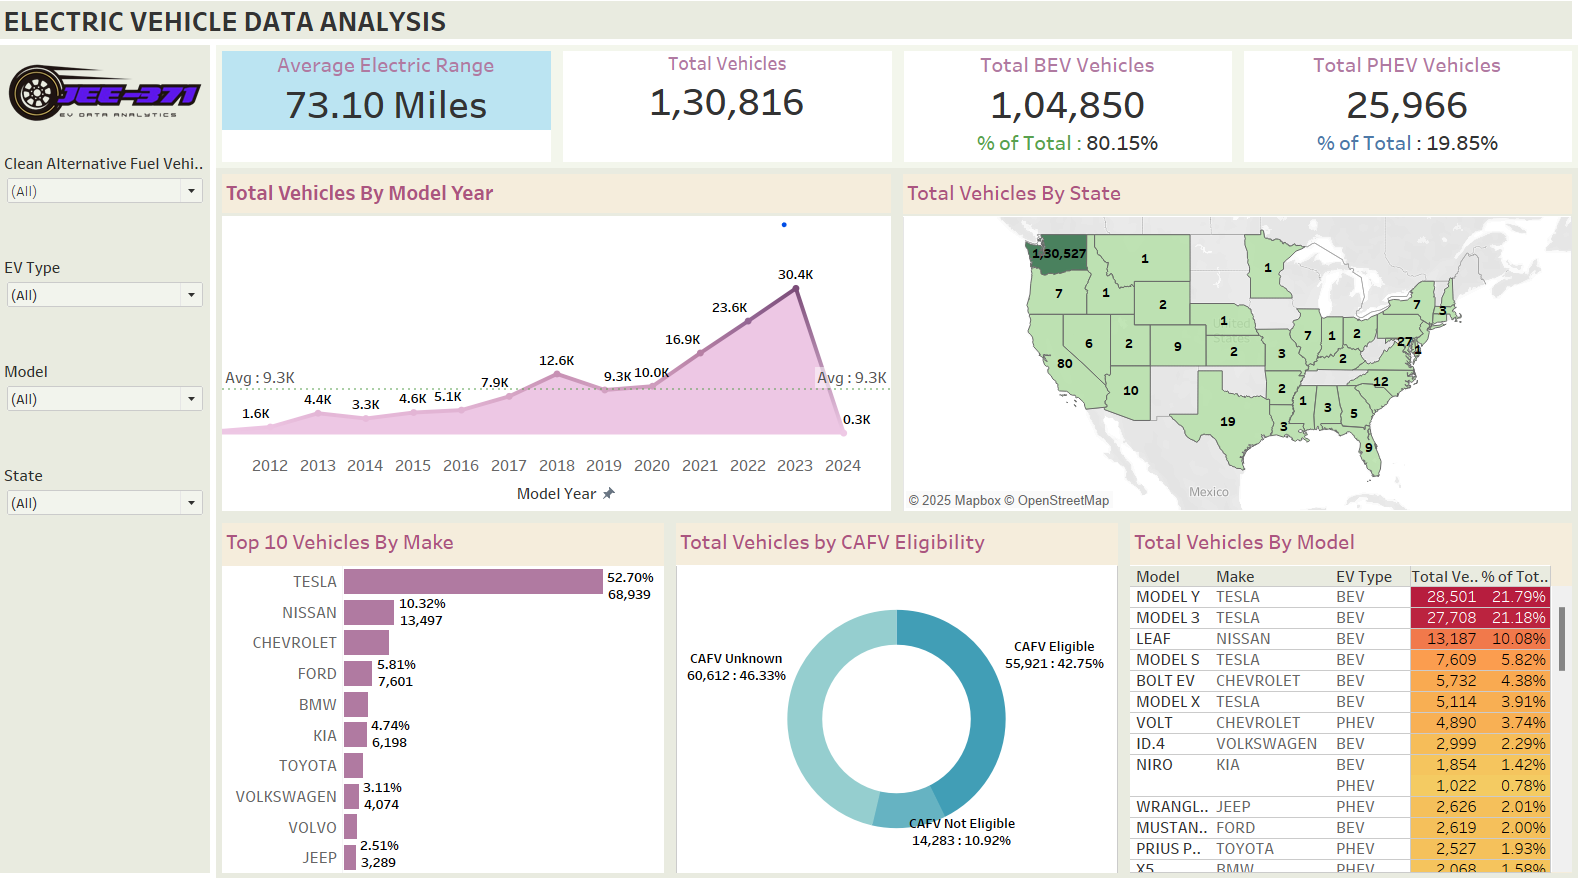

What the dashboard file says about the page in this screenshot:
{"tool":"tableau","page":{"name":"EV Data Analysis","canvas":[1600,900],"ordinal":0},"visuals":[{"type":"title","box":[8,8,1584,50]},{"type":"image","param":"C:/Users/jeeva/Downloads/JEE-371-removebg-preview.png","box":[14,58,210,104]},{"type":"worksheet","title":"Average Electric Range","mark":"Automatic","box":[230,58,341,123]},{"type":"worksheet","title":"Total Vehicles By Model Year","mark":"Area","rows":["Calculation_1353050238294384640","Calculation_1353050238294384640"],"cols":["Model Year"],"box":[230,58,681,349]},{"type":"worksheet","title":"Total Vehicles","mark":"Automatic","box":[571,58,341,123]},{"type":"worksheet","title":"Total Vehicles By State","mark":"Multipolygon","box":[911,58,681,349]},{"type":"worksheet","title":"Total BEV Vehicles","mark":"Automatic","box":[912,58,340,123]},{"type":"worksheet","title":"Total PHEV Vehicles","mark":"Automatic","box":[1252,58,340,123]},{"type":"filter","title":"Total Vehicles By State","param":"[federated.1cd9a5d1ho1pp91dsxmj60qi3yfo].[none:Clean Alternative Fuel Vehicle (C","box":[14,162,210,104]},{"type":"filter","title":"Total Vehicles By Model Year","param":"[federated.1cd9a5d1ho1pp91dsxmj60qi3yfo].[none:Electric Vehicle Type:nk]","box":[14,266,210,104]},{"type":"filter","title":"Total Vehicles By Model Year","param":"[federated.1cd9a5d1ho1pp91dsxmj60qi3yfo].[none:Model:nk]","box":[14,370,210,104]},{"type":"worksheet","title":"Top 10 Vehicles By Make","mark":"Automatic","rows":["Make"],"cols":["Calculation_1353050238294384640"],"box":[230,407,454,485]},{"type":"worksheet","title":"Total Vehicles by CAFV Eligibility","mark":"Pie","rows":["Calculation_1353050238324731911","Calculation_1353050238324731911"],"box":[684,407,454,485]},{"type":"worksheet","title":"Total Vehicles By Model","mark":"Square","rows":["Model","Make","Electric Vehicle Type"],"box":[1138,407,454,485]},{"type":"filter","title":"Total Vehicles By Model Year","param":"[federated.1cd9a5d1ho1pp91dsxmj60qi3yfo].[none:State:nk]","box":[14,474,210,103]},{"type":"blank","box":[14,577,210,103]},{"type":"blank","box":[14,680,210,103]},{"type":"blank","box":[14,783,210,103]}]}

Visuals, with their boxes in screenshot pixels (x1, y1, x2, y2), scaled from the page's 1600x900 canvas onto the 1578x878 screenshot:
title: locate(8, 8, 1570, 57)
image: locate(14, 57, 221, 158)
"Average Electric Range" worksheet: locate(227, 57, 563, 177)
"Total Vehicles By Model Year" worksheet (Area marks): locate(227, 57, 898, 397)
"Total Vehicles" worksheet: locate(563, 57, 899, 177)
"Total Vehicles By State" worksheet (Multipolygon marks): locate(898, 57, 1570, 397)
"Total BEV Vehicles" worksheet: locate(899, 57, 1235, 177)
"Total PHEV Vehicles" worksheet: locate(1235, 57, 1570, 177)
"Total Vehicles By State" filter: locate(14, 158, 221, 259)
"Total Vehicles By Model Year" filter: locate(14, 259, 221, 361)
"Total Vehicles By Model Year" filter: locate(14, 361, 221, 462)
"Top 10 Vehicles By Make" worksheet: locate(227, 397, 675, 870)
"Total Vehicles by CAFV Eligibility" worksheet (Pie marks): locate(675, 397, 1122, 870)
"Total Vehicles By Model" worksheet (Square marks): locate(1122, 397, 1570, 870)
"Total Vehicles By Model Year" filter: locate(14, 462, 221, 563)
blank: locate(14, 563, 221, 663)
blank: locate(14, 663, 221, 764)
blank: locate(14, 764, 221, 864)
